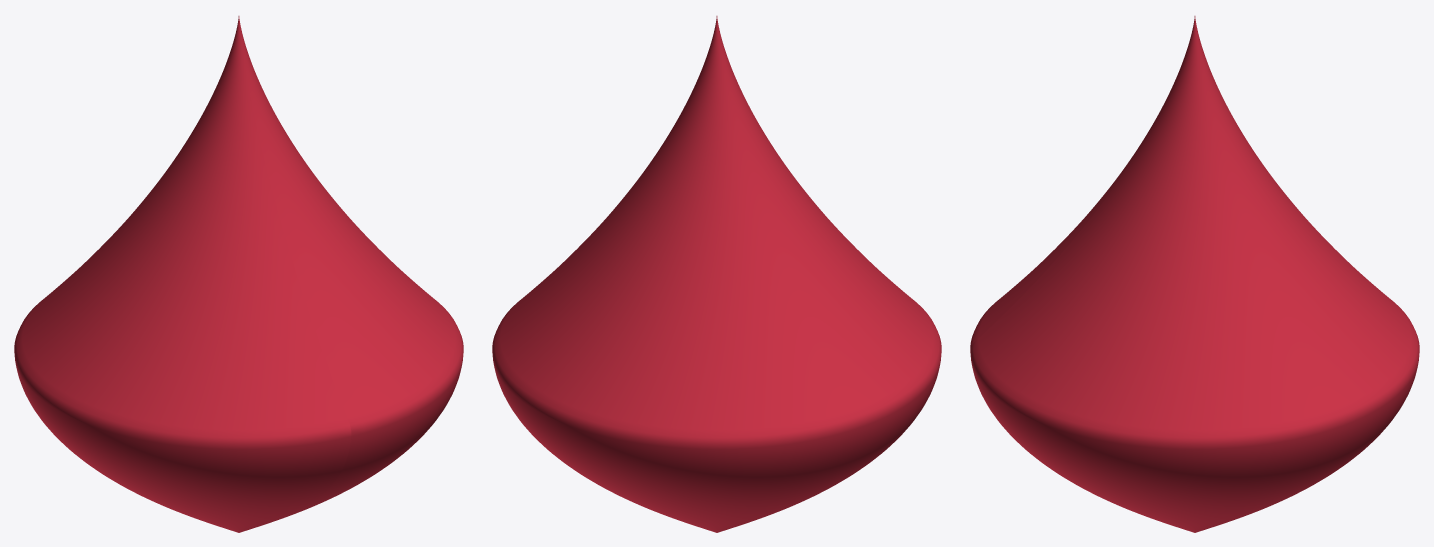
The model's file is blood_drop.glb.
3 renders of one model, left to right at view 1: azimuth 30°, elevation 25°; view 2: azimuth 150°, elevation 25°; view 3: azimuth 270°, elevation 25°, orthographic.
Parts seen in each view (by area): view 1: RealisticBloodDrop; view 2: RealisticBloodDrop; view 3: RealisticBloodDrop.
Boxes of the visible parts, x1,y1,x2,y2 form: RealisticBloodDrop: (14, 16, 463, 532); RealisticBloodDrop: (492, 16, 941, 532); RealisticBloodDrop: (970, 16, 1419, 532).
Bounding box in the file's own units: 2.16 × 2.75 × 2.16.
